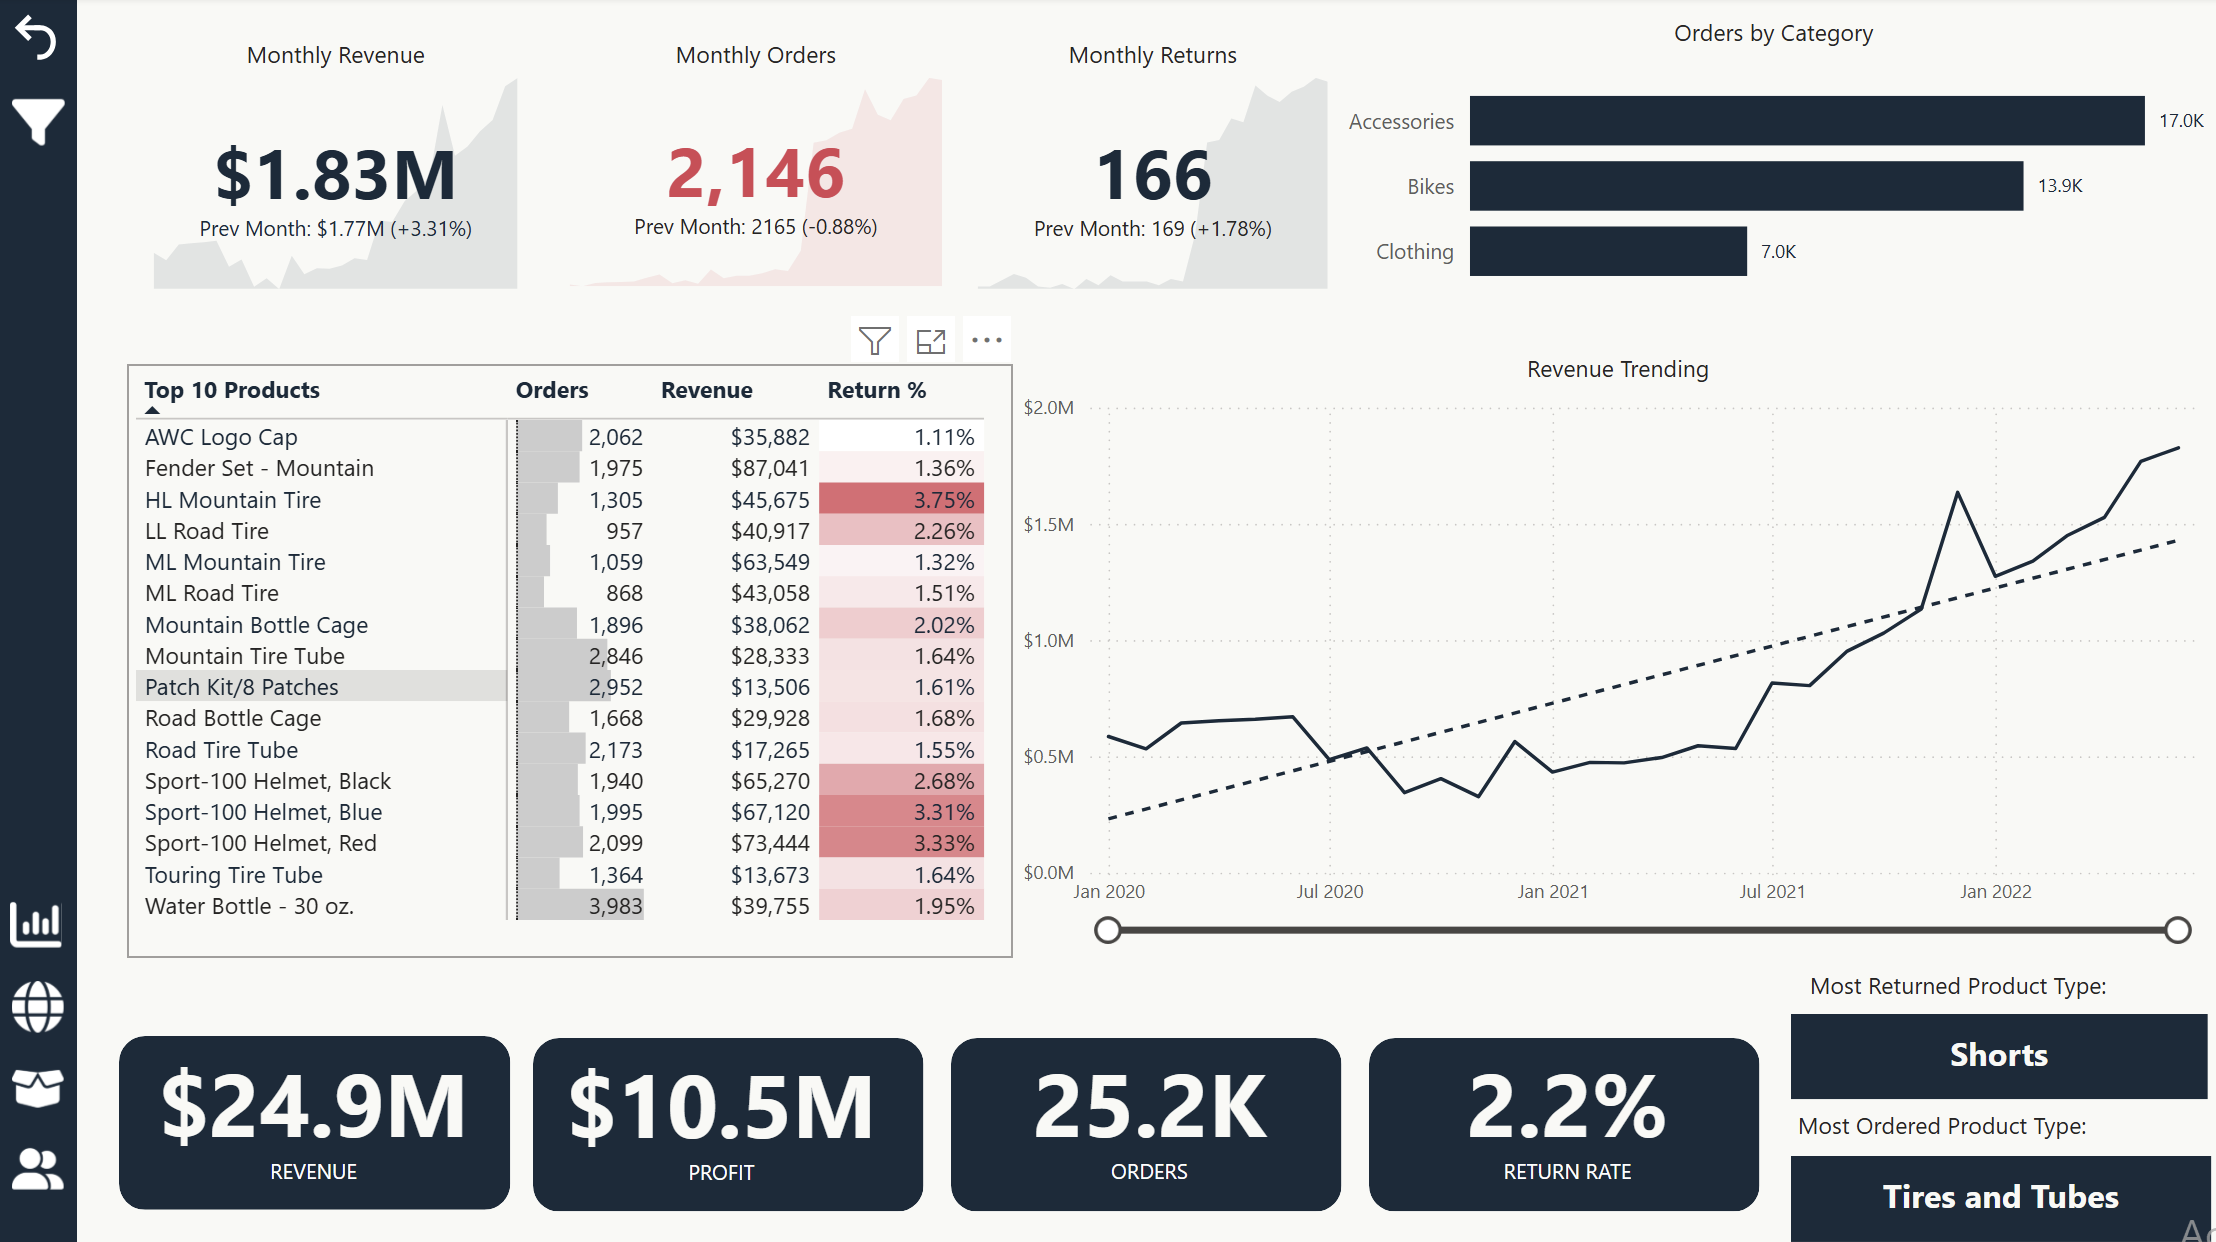

This screenshot's page, from the dashboard's own definition file:
{"tool":"powerbi","page":{"name":"Exec Dashboard","canvas":[1280,720],"ordinal":0},"visuals":[{"type":"actionButton","box":[2.5,516.7,45.6,37.8],"z":0,"group":"g3"},{"type":"card","fields":{"Values":["Measure Table.Total Revenue"]},"box":[52.7,569.5,256.2,150],"z":0,"group":"g2"},{"type":"shape","box":[68.5,598.5,225.4,100.2],"z":0,"group":"g1"},{"type":"actionButton","box":[3.3,563.4,45.6,37.8],"z":1000,"group":"g3"},{"type":"card","fields":{"Values":["Measure Table.Total Profit"]},"box":[296.1,571.9,239.9,146.3],"z":1000,"group":"g2"},{"type":"shape","box":[306.7,599.2,225,100],"z":1000,"group":"g1"},{"type":"shape","box":[0,0,1280,719.8],"z":1500},{"type":"card","fields":{"Values":["Measure Table.Total Orders"]},"box":[534.4,569.5,256.2,150],"z":2000,"group":"g2"},{"type":"group","id":"g1","title":"KPI Backgrounds","box":[68.5,598.5,945.2,101.5],"z":2000},{"type":"shape","box":[547.5,599.2,225,100],"z":2000,"group":"g1"},{"type":"actionButton","box":[3.3,611.1,45.6,37.8],"z":2000,"group":"g3"},{"type":"shape","title":"Left Nav Background","box":[0,0,45,720],"z":3000},{"type":"card","fields":{"Values":["Measure Table.Return Rate"]},"box":[775.2,569.5,256.2,150],"z":3000,"group":"g2"},{"type":"shape","box":[788.3,599.2,225,100],"z":3000,"group":"g1"},{"type":"actionButton","box":[3.3,657.8,45.6,37.8],"z":3000,"group":"g3"},{"type":"group","id":"g2","title":"KPI Values","box":[52.7,569.5,979.4,150.3],"z":4000},{"type":"lineChart","title":"Revenue Trending","fields":{"Y":["Measure Table.Total Revenue"],"Category":["Calendar Lookup.Start of Month"]},"box":[584.3,205.4,697.3,343.9],"z":5000},{"type":"kpi","title":"Monthly Revenue","fields":{"Indicator":["Measure Table.Total Revenue"],"TrendLine":["Calendar Lookup.Start of Month"],"Goal":["Measure Table.Previous Month Revenue"]},"box":[84.4,23.9,219.7,149.7],"z":6000},{"type":"kpi","title":"Monthly Orders","fields":{"TrendLine":["Calendar Lookup.Start of Month"],"Indicator":["Measure Table.Total Orders"],"Goal":["Measure Table.Previous Month Orders"]},"box":[323.2,23.9,224.5,148.1],"z":7000},{"type":"kpi","title":"Monthly Returns","fields":{"TrendLine":["Calendar Lookup.Start of Month"],"Indicator":["Measure Table.Total Returns"],"Goal":["Measure Table.Previous Month Returns"]},"box":[558.8,23.9,211.7,149.7],"z":8000},{"type":"clusteredBarChart","title":"Orders by Category","fields":{"Category":["Product Categories Lookup.CategoryName"],"Y":["Measure Table.Total Orders"]},"box":[767.2,11.9,510.2,171.4],"z":9000},{"type":"pivotTable","fields":{"Rows":["Product Lookup.ProductName"],"Values":["Measure Table.Total Orders","Measure Table.Total Revenue","Measure Table.Return Rate"]},"box":[73.2,211.7,511,342.3],"z":10000},{"type":"card","fields":{"Values":["Min(Product Subcategories Lookup.SubcategoryName)"]},"box":[1031.6,668.7,242,49.4],"z":11000},{"type":"textbox","box":[1030.9,635.4,199.1,34.3],"z":12000},{"type":"card","fields":{"Values":["Min(Product Subcategories Lookup.SubcategoryName)"]},"box":[1032.2,586.6,239.9,48.8],"z":13000},{"type":"textbox","box":[1038,555.6,197.4,35],"z":14000},{"type":"actionButton","box":[3.3,5.6,35.6,35.6],"z":15000},{"type":"group","id":"g3","title":"Navigation Buttons","box":[2.5,516.7,46.4,178.9],"z":16000},{"type":"actionButton","box":[3.4,53.1,38.4,39.6],"z":17000}]}

Visuals, with their boxes on the page's 1280x720 design canvas (x1, y1, x2, y2). These are canvas units, not pixel positions in the 2216x1242 screenshot, which may show the page scaled, cropped or inside an application window:
actionButton: <box>2,517,48,554</box>
card - Measure Table.Total Revenue: <box>53,570,309,720</box>
shape: <box>68,598,294,699</box>
actionButton: <box>3,563,49,601</box>
card - Measure Table.Total Profit: <box>296,572,536,718</box>
shape: <box>307,599,532,699</box>
shape: <box>0,0,1280,720</box>
card - Measure Table.Total Orders: <box>534,570,791,720</box>
"KPI Backgrounds" group: <box>68,598,1014,700</box>
shape: <box>548,599,772,699</box>
actionButton: <box>3,611,49,649</box>
"Left Nav Background" shape: <box>0,0,45,720</box>
card - Measure Table.Return Rate: <box>775,570,1031,720</box>
shape: <box>788,599,1013,699</box>
actionButton: <box>3,658,49,696</box>
"KPI Values" group: <box>53,570,1032,720</box>
"Revenue Trending" lineChart: <box>584,205,1282,549</box>
"Monthly Revenue" kpi: <box>84,24,304,174</box>
"Monthly Orders" kpi: <box>323,24,548,172</box>
"Monthly Returns" kpi: <box>559,24,770,174</box>
"Orders by Category" clusteredBarChart: <box>767,12,1277,183</box>
pivotTable - Product Lookup.ProductName x Measure Table.Total Orders: <box>73,212,584,554</box>
card - Min(Product Subcategories Lookup.SubcategoryName): <box>1032,669,1274,718</box>
textbox: <box>1031,635,1230,670</box>
card - Min(Product Subcategories Lookup.SubcategoryName): <box>1032,587,1272,635</box>
textbox: <box>1038,556,1235,591</box>
actionButton: <box>3,6,39,41</box>
"Navigation Buttons" group: <box>2,517,49,696</box>
actionButton: <box>3,53,42,93</box>
